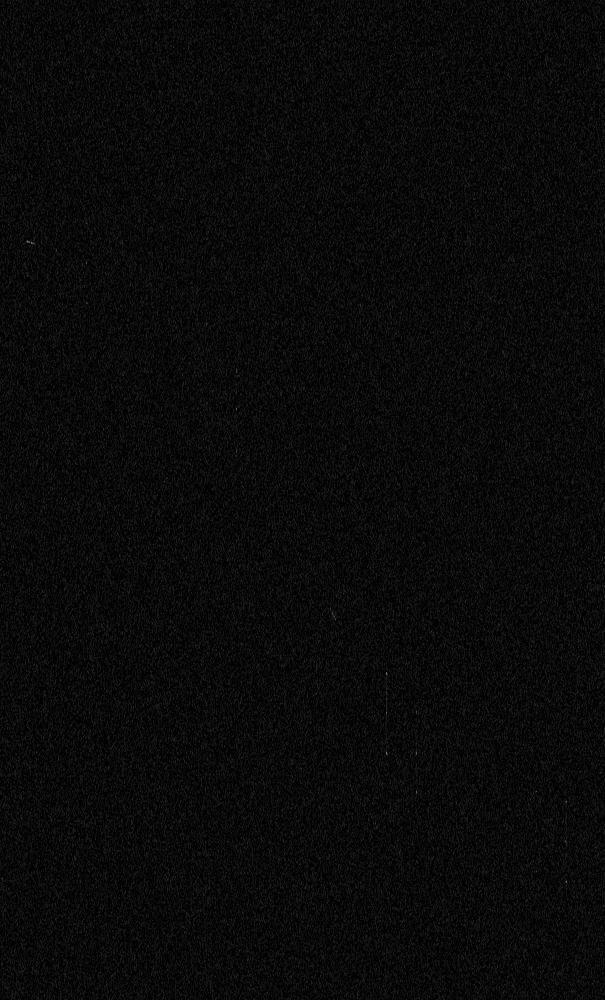signal: (0, 0, 604, 999)
